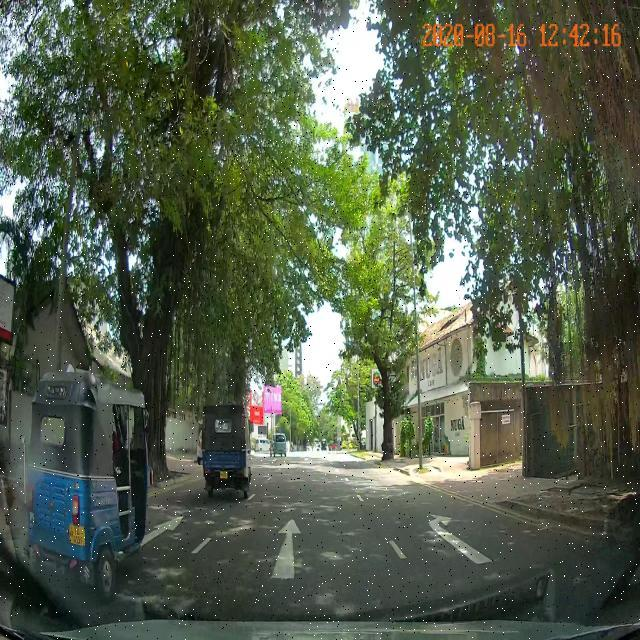forward: (163, 505, 434, 594)
right: (375, 500, 597, 585)
